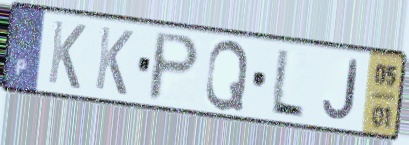J: (321, 57, 361, 123)
K: (92, 23, 136, 99), (45, 17, 89, 93)
L: (267, 46, 307, 121)
P: (145, 29, 203, 104)
Q: (202, 38, 251, 113)
